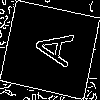A: (24, 24, 74, 68)
